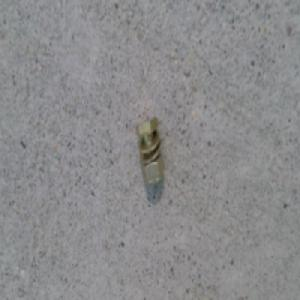BoltNutSet: (137, 117, 165, 186)
